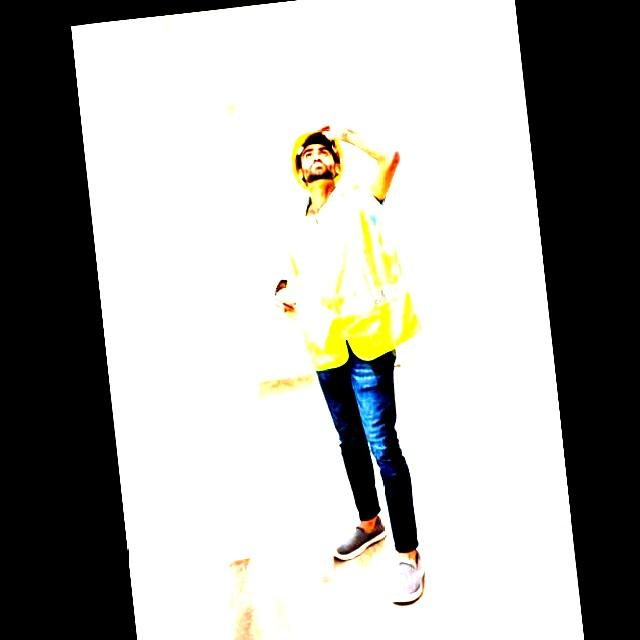Capacete: (292, 130, 342, 187)
Colete: (288, 187, 420, 370)
Pessoa: (275, 127, 423, 603)
